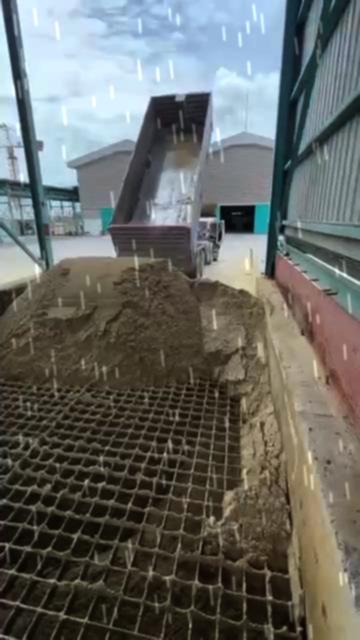sand: (0, 258, 289, 566)
